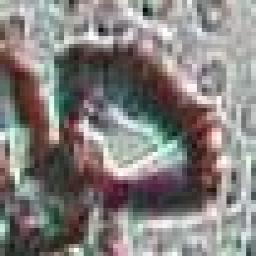crystals: (50, 33, 224, 212)
